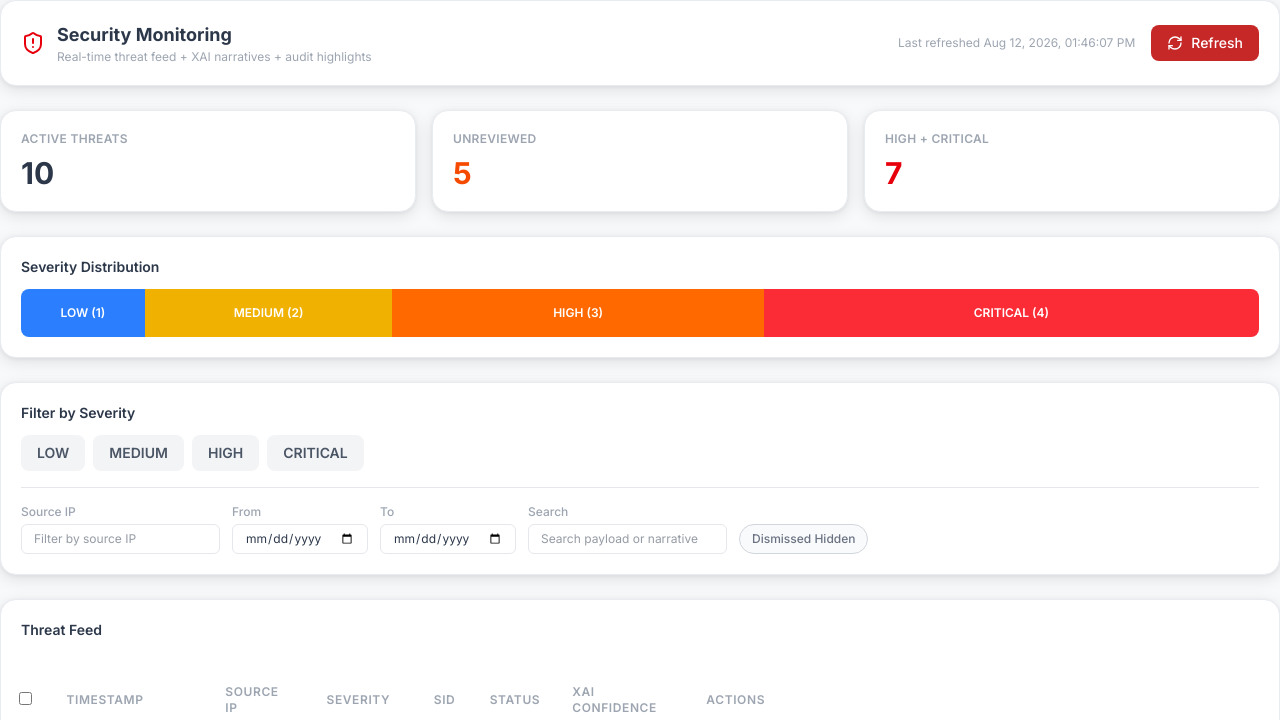
Test: M8: Security Monitoring page — bulk actions + S3 (Task 12) › shows an error toast and never opens the panel when the preview fetch itself fails
Click the checkbox at (25, 698), box [18,692,32,705]
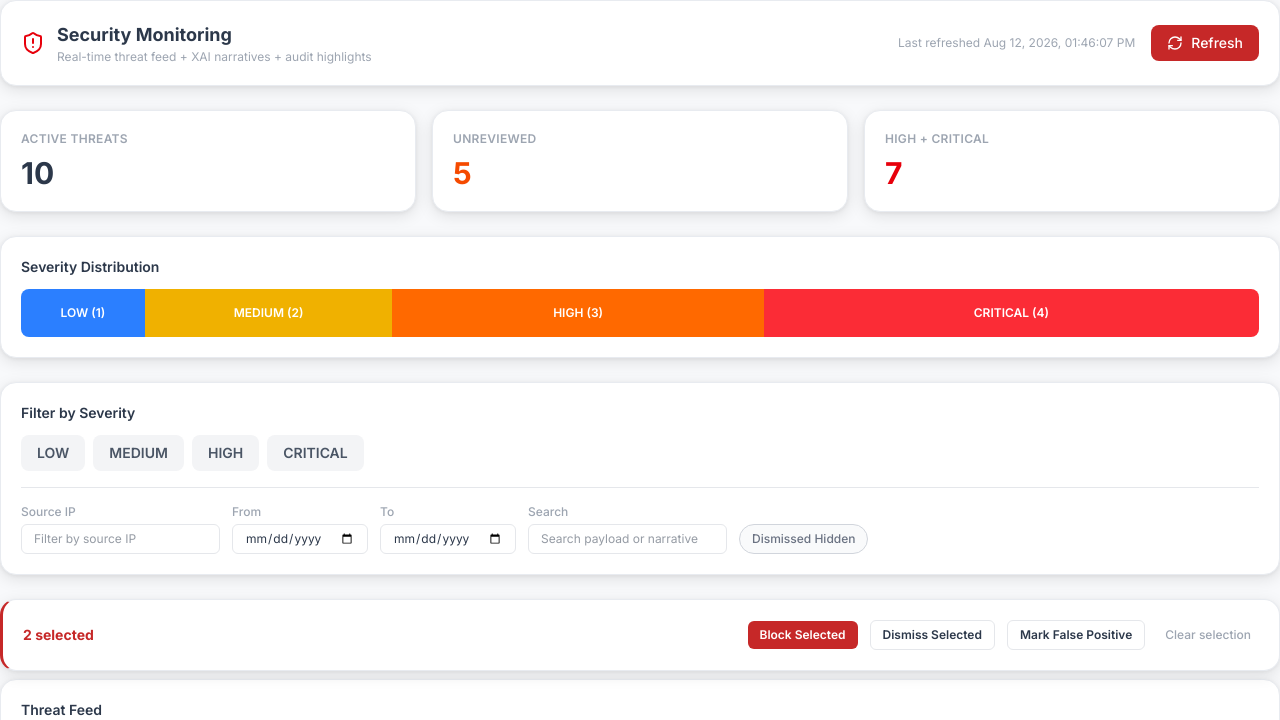
Click the button "Block Selected" at (802, 635), box [748,621,858,649]
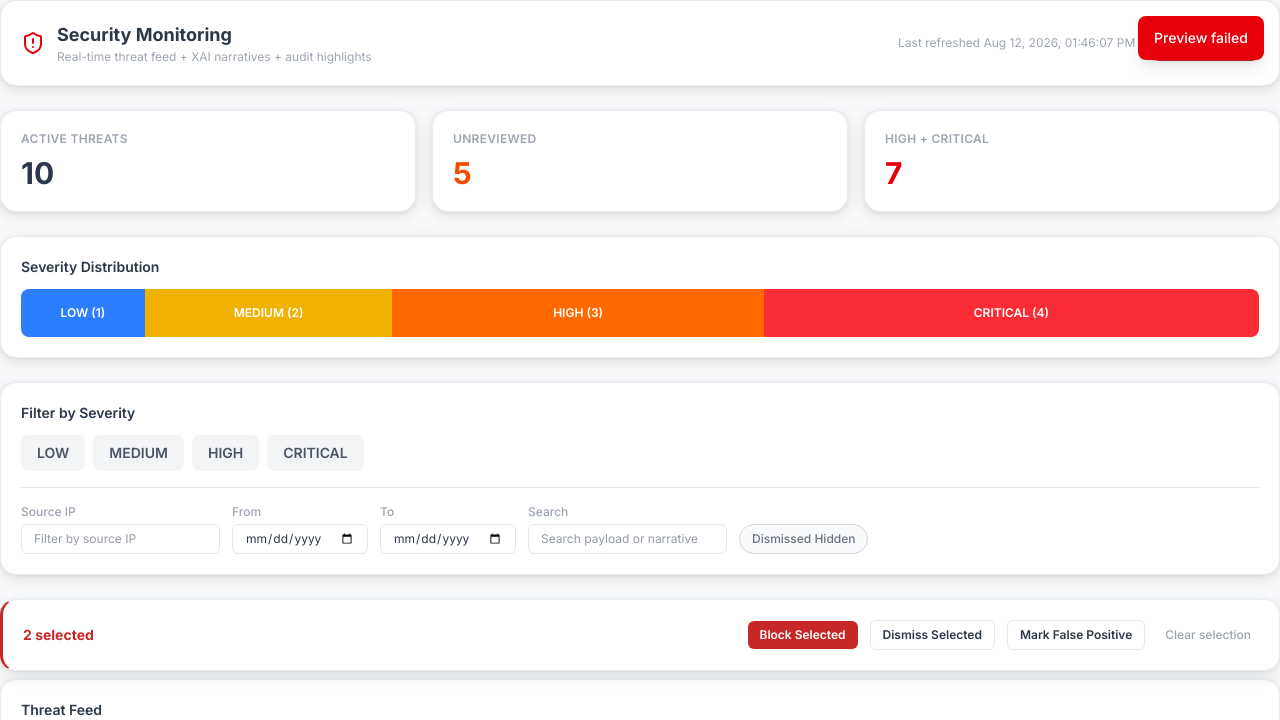
expect the text "Preview failed" is shown: met, box [1138,16,1264,60]
